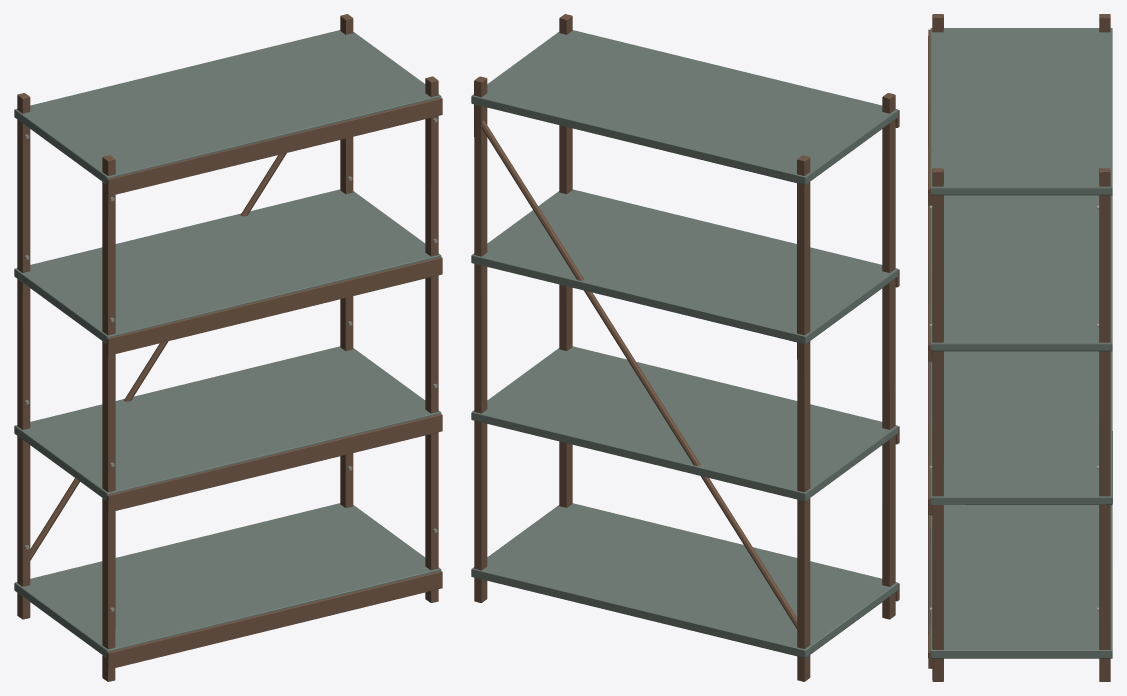
File: shelf_low.glb
3 views of the same model, side by side, from view 1: azimuth 30°, elevation 25°; view 2: azimuth 150°, elevation 25°; view 3: azimuth 270°, elevation 25° (orthographic). The views are drawn at different scales.
Parts seen in each view (by area): view 1: shelf.001; view 2: shelf.001; view 3: shelf.001.
Part boxes in pixels (x1=…): shelf.001: x1=14, y1=14, x2=442, y2=681; shelf.001: x1=471, y1=14, x2=899, y2=681; shelf.001: x1=928, y1=14, x2=1112, y2=681.
Bounding box in the file's own units: 1.45 × 2.16 × 0.7086.
